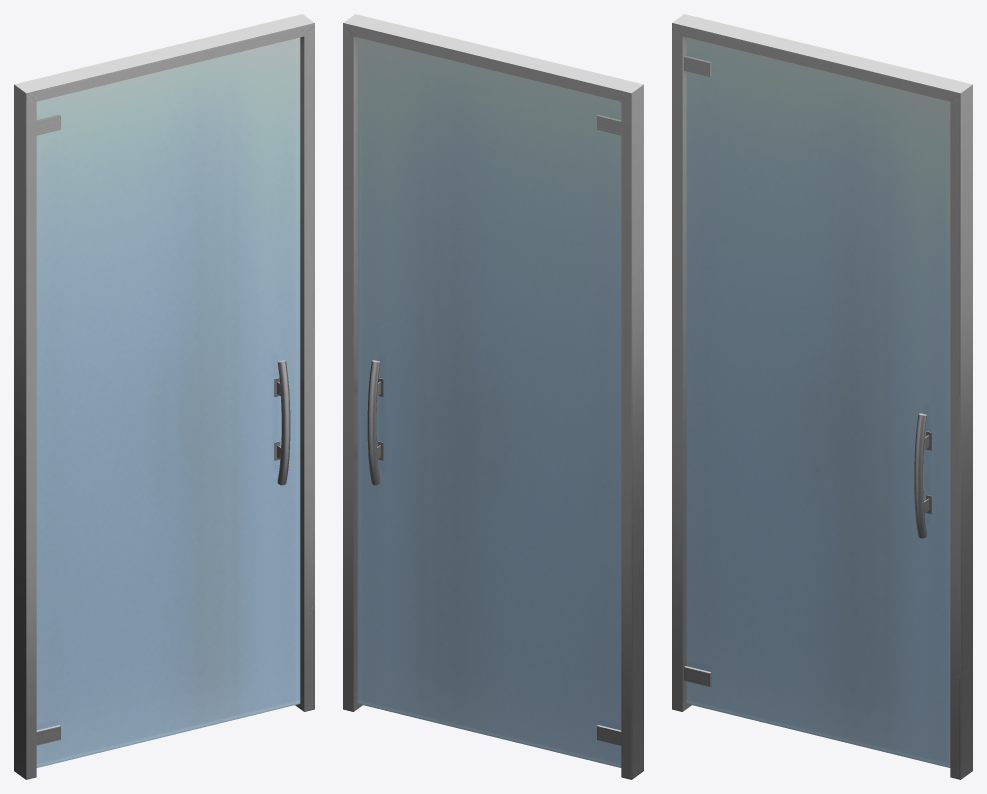
File: Door_SingleGlass.gltf
3 renders of one model, left to right at view 1: azimuth 30°, elevation 25°; view 2: azimuth 150°, elevation 25°; view 3: azimuth 330°, elevation 25°, orthographic.
Visible parts, largest first — view 1: window_A, Door_SingleGlass; view 2: window_A, Door_SingleGlass; view 3: window_A, Door_SingleGlass.
Boxes of the visible parts, left/top/right/bottom form: window_A: left=36, top=37, right=300, bottom=767; Door_SingleGlass: left=14, top=14, right=314, bottom=779; window_A: left=357, top=37, right=621, bottom=767; Door_SingleGlass: left=343, top=14, right=643, bottom=779; window_A: left=686, top=37, right=950, bottom=767; Door_SingleGlass: left=672, top=14, right=972, bottom=779.
Size of the model in its own units: 11 by 25 by 1.96.
2 materials, 2 textured.
